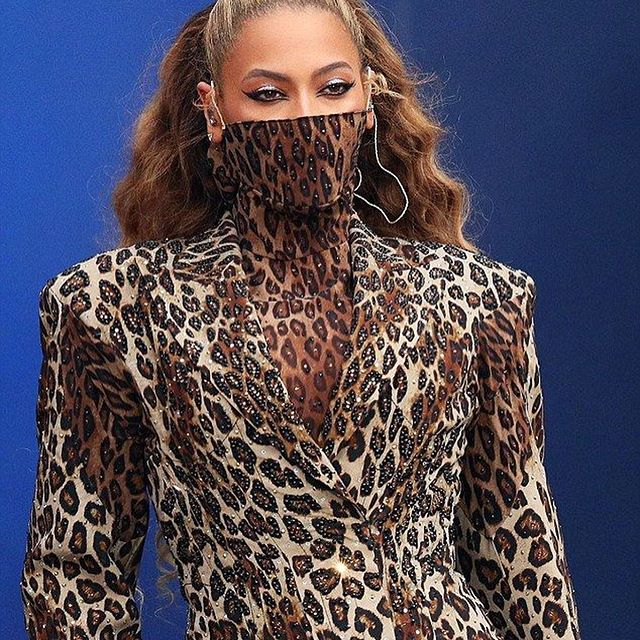homemade: (207, 117, 377, 203)
